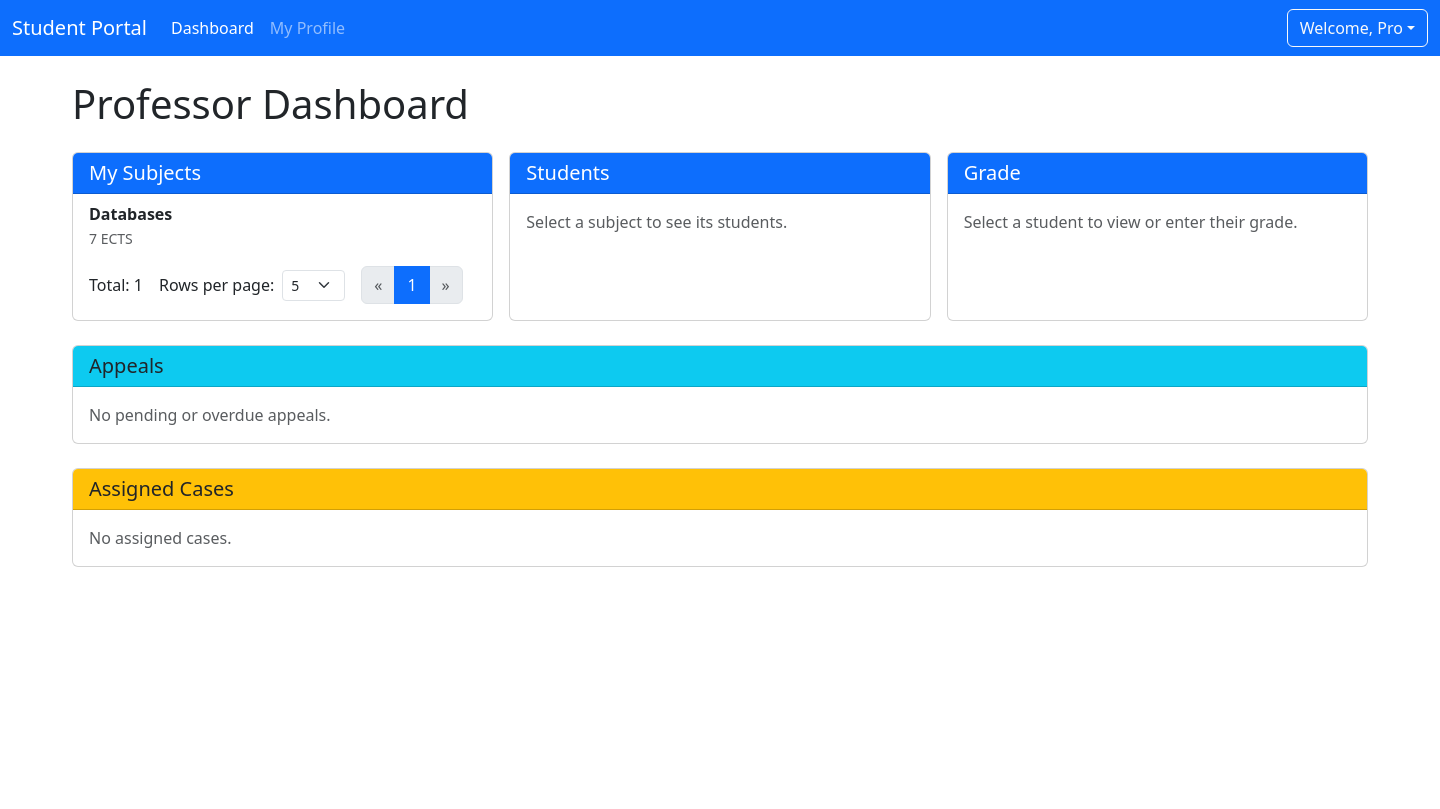
Test: ProfessorDashboardPage (§5.4) › when a draft exists then the 5 inputs pre-fill from GET /GradeDraft/:id
The width and height of the screenshot is (1440, 809).
Click the text "Databases" at (131, 214), box [89,203,172,225]
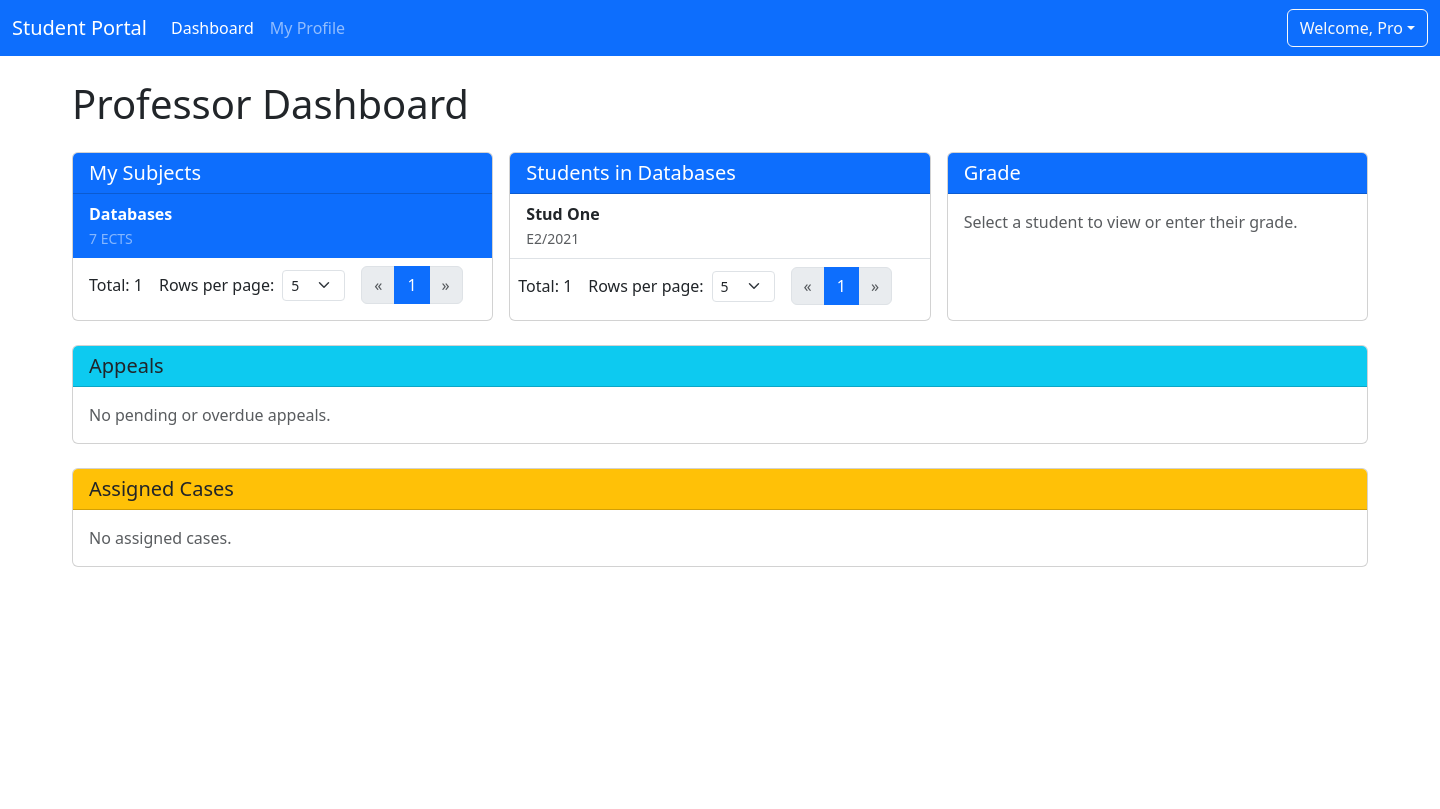
Click the text "Stud One" at (563, 214), box [526,203,600,225]
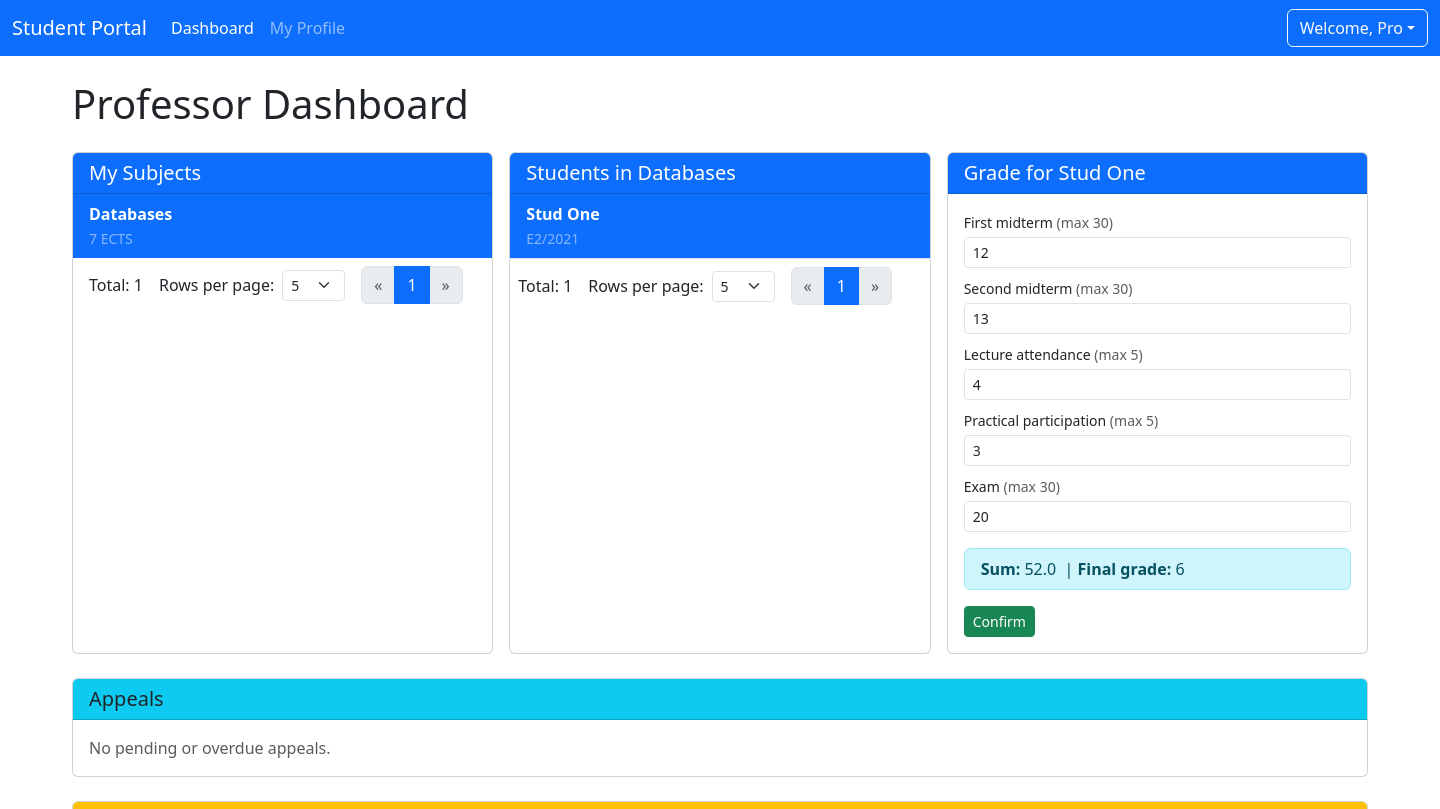
Expected: the number field below "First midterm" holds "12", [964,237,1351,268]
Expected: the number field below "Second midterm" holds "13", [964,303,1351,334]
Expected: the number field below "Lecture attendance" holds "4", [964,369,1351,400]
